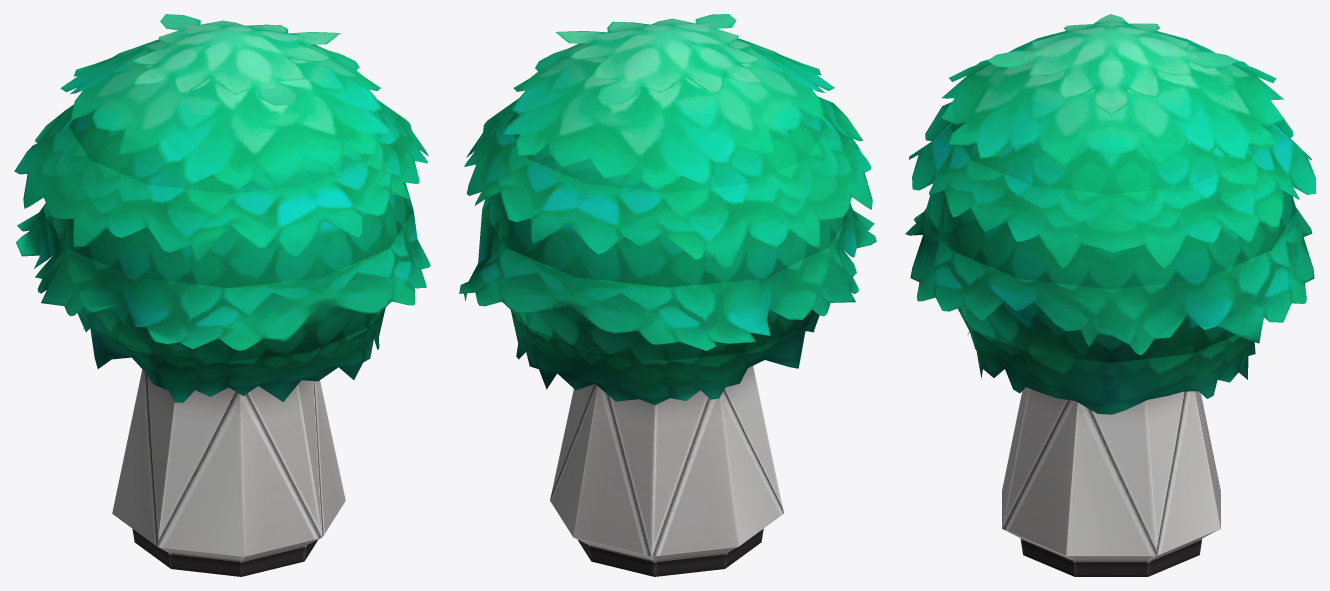
The model's file is my_millenniumlounge_01_plantpot_03.glb.
The picture shows the model from 3 angles, left to right: view 1: azimuth 30°, elevation 25°; view 2: azimuth 150°, elevation 25°; view 3: azimuth 270°, elevation 25°; orthographic projection.
Visible parts, largest first — view 1: my_millenniumlounge_01_plantpot_03_leaves, my_millenniumlounge_01_plantpot_03; view 2: my_millenniumlounge_01_plantpot_03_leaves, my_millenniumlounge_01_plantpot_03; view 3: my_millenniumlounge_01_plantpot_03_leaves, my_millenniumlounge_01_plantpot_03.
Boxes of the visible parts, x1,y1,x2,y2 form: my_millenniumlounge_01_plantpot_03_leaves: (14, 14, 430, 402); my_millenniumlounge_01_plantpot_03: (112, 369, 345, 576); my_millenniumlounge_01_plantpot_03_leaves: (459, 14, 876, 405); my_millenniumlounge_01_plantpot_03: (550, 366, 783, 576); my_millenniumlounge_01_plantpot_03_leaves: (905, 14, 1315, 414); my_millenniumlounge_01_plantpot_03: (1002, 387, 1220, 576).
Size of the model in its own units: 0.00459 by 0.00602 by 0.00443.
Materials: 1 (1 with a texture image).
